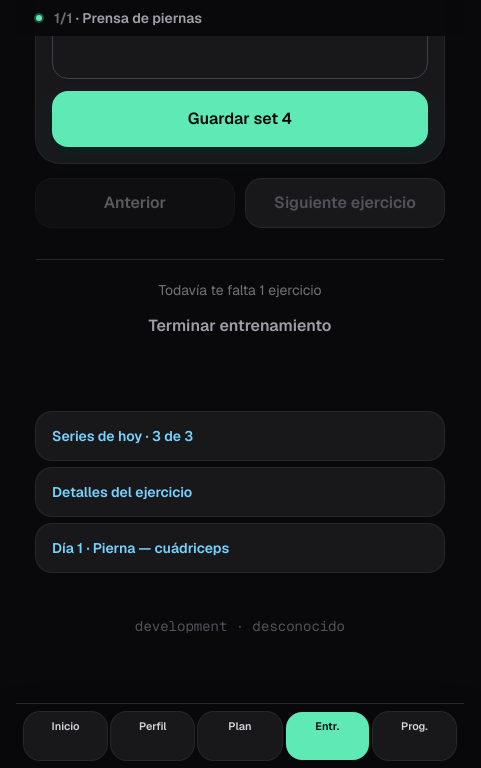
Test case: SessionRunner › groups a unilateral exercise's logged sets by side with a running tally, numbered within each side
The width and height of the screenshot is (481, 768).
(page scrolled)
Click the heading "Series de hoy · 3 de 3" at (123, 436), box [52, 427, 193, 445]
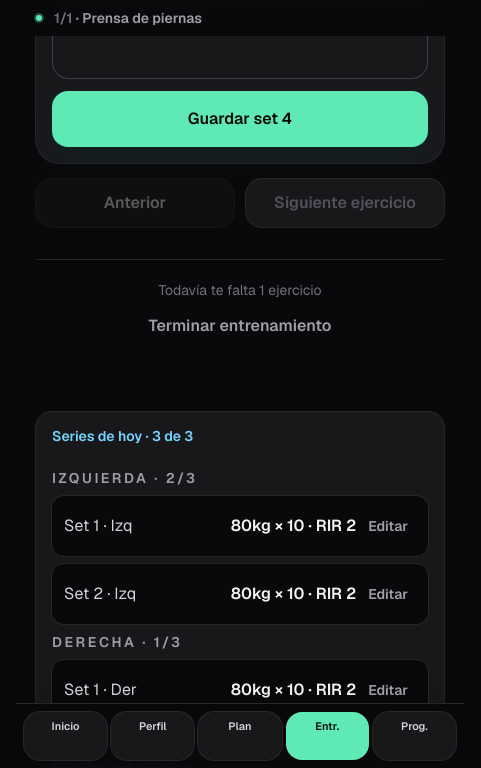
Result: the text "Izquierda · 2/3" is shown at [52, 469, 198, 487]
Result: the text "Derecha · 1/3" is shown at [52, 633, 182, 651]
Result: the text "Set 1 · Izq" is shown at [64, 514, 132, 538]
